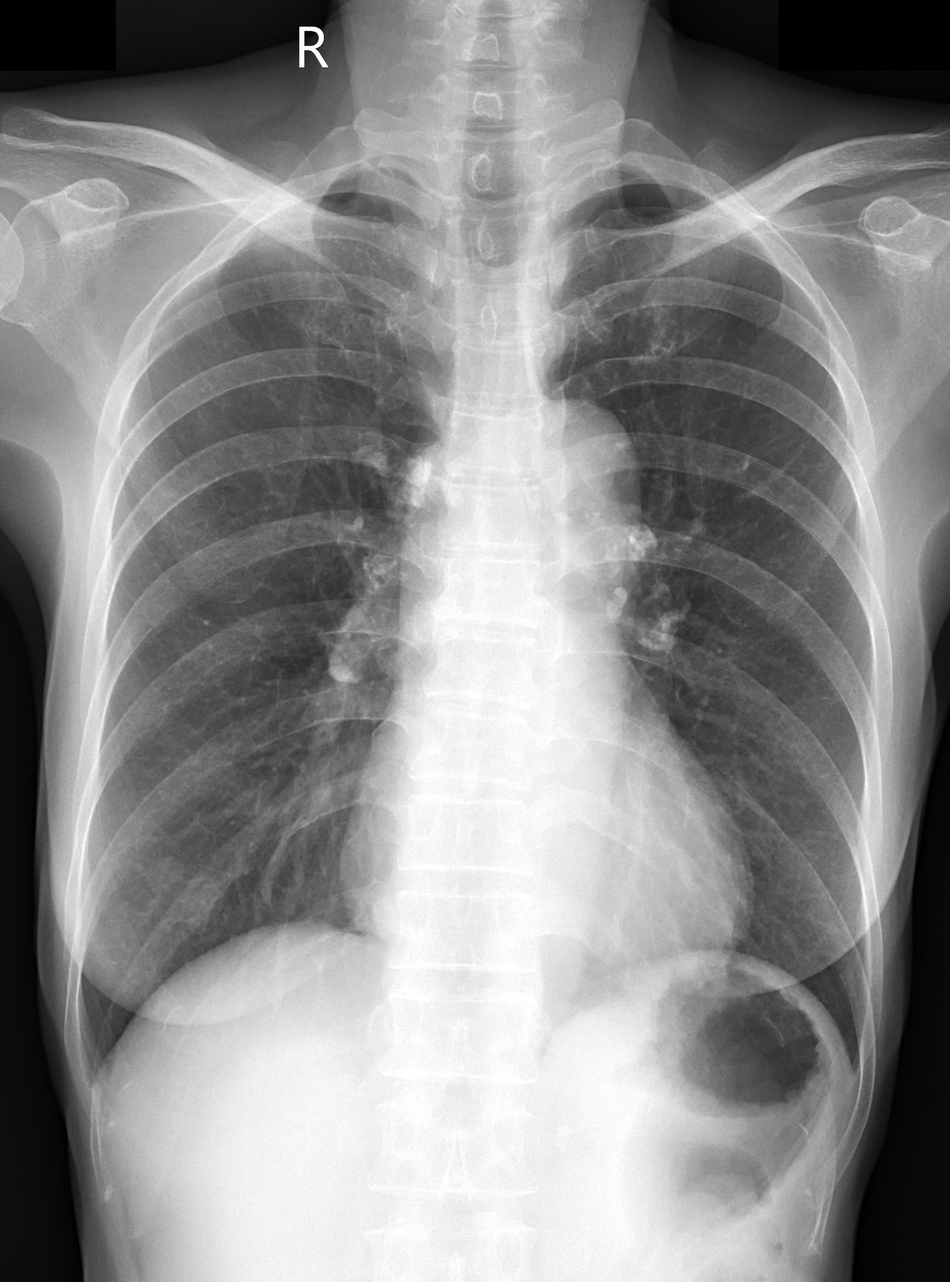Pleural thickening: (70, 1042, 118, 1111)
